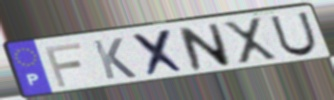F: (42, 41, 85, 89)
K: (90, 36, 140, 81)
N: (176, 22, 234, 73)
U: (268, 10, 320, 58)
X: (129, 27, 189, 79), (221, 16, 281, 66)
